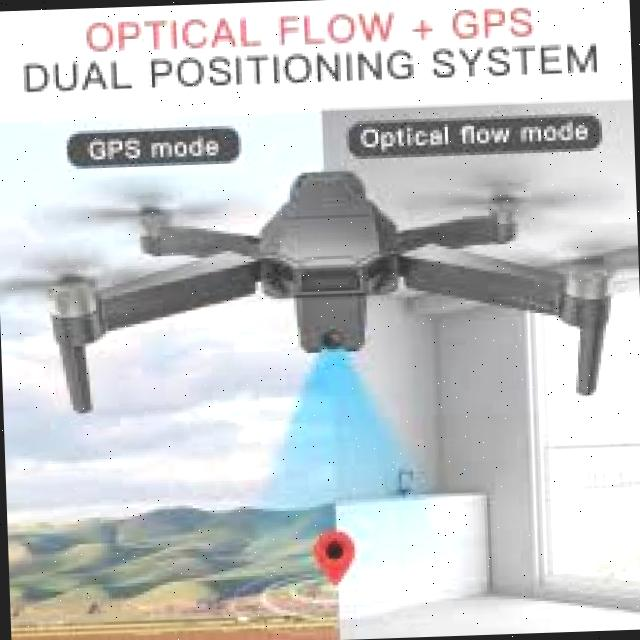drone: (27, 132, 638, 440)
